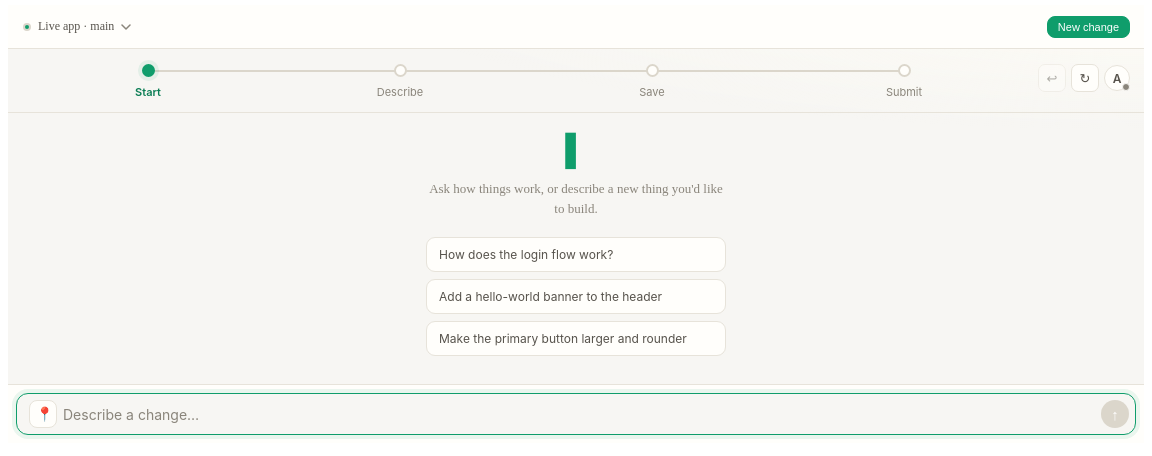
Panel › renders a plain-English tool action with an expandable change view
Expected: the button named "alice" is shown, [1104,65,1130,91]
Type "edit the header" into the text box with placeholder "Describe a change…" at (579, 415), box [63,402,1095,428]
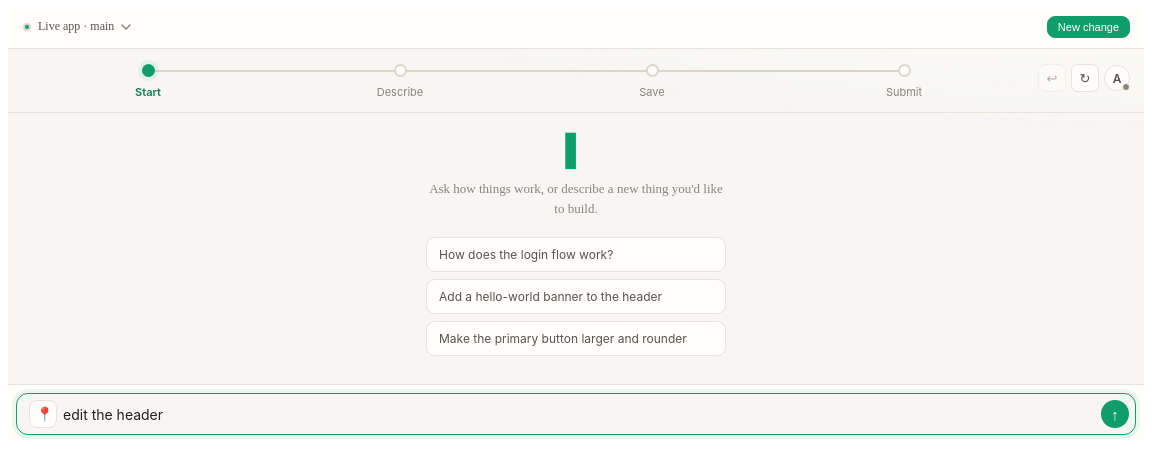
Click the button named "send" at (1115, 414), box [1101,400,1129,428]
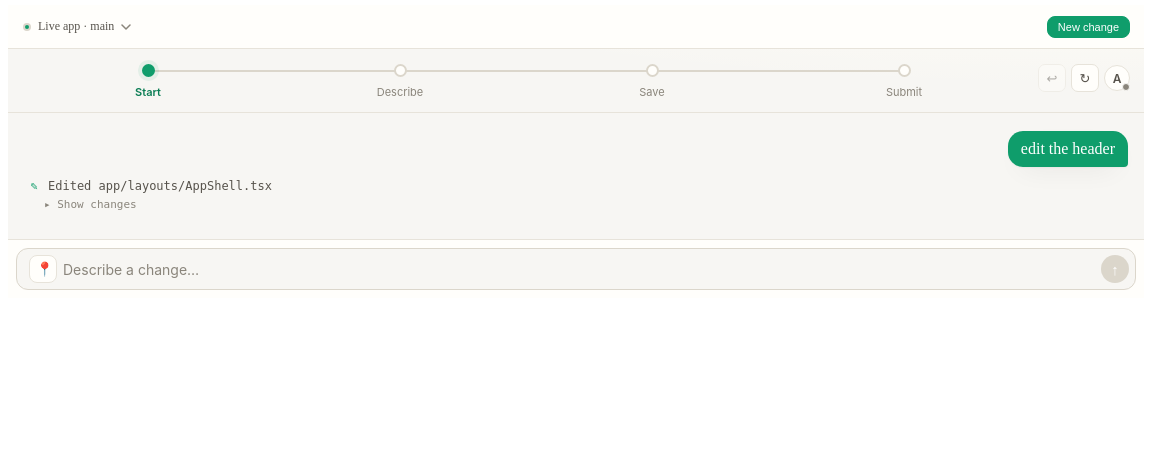
Expected: the text "Edited app/layouts/AppShell.tsx" is shown, [48,179,272,193]
Expected: the heading "Show changes" is shown, [44,198,137,211]
